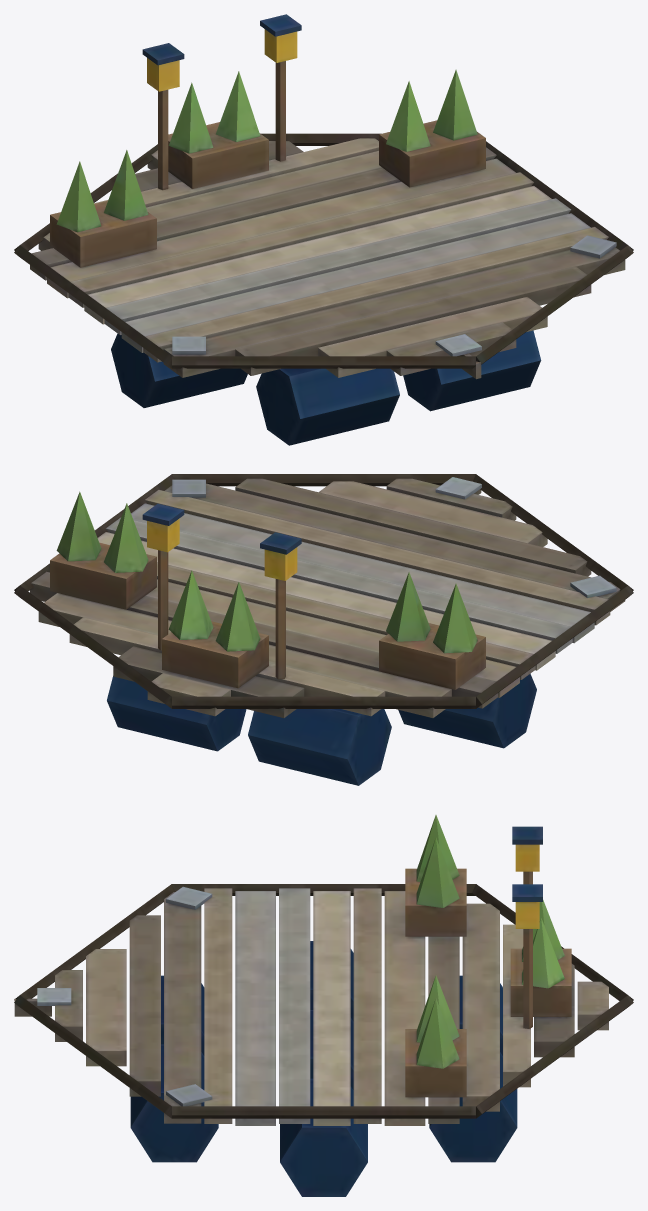
File: raft-c-age10-lite.glb
The picture shows the model from 3 angles, top to bottom: view 1: azimuth 30°, elevation 25°; view 2: azimuth 150°, elevation 25°; view 3: azimuth 270°, elevation 25°; orthographic projection.
Visible parts, largest first — view 1: raft-c-age10-lite; view 2: raft-c-age10-lite; view 3: raft-c-age10-lite.
Boxes of the visible parts, x1,y1,x2,y2 form: raft-c-age10-lite: (14, 14, 633, 445); raft-c-age10-lite: (14, 474, 633, 785); raft-c-age10-lite: (14, 815, 633, 1196).
Bounding box in the file's own units: 1.59 × 0.7856 × 1.83.
1 material, 1 textured.
